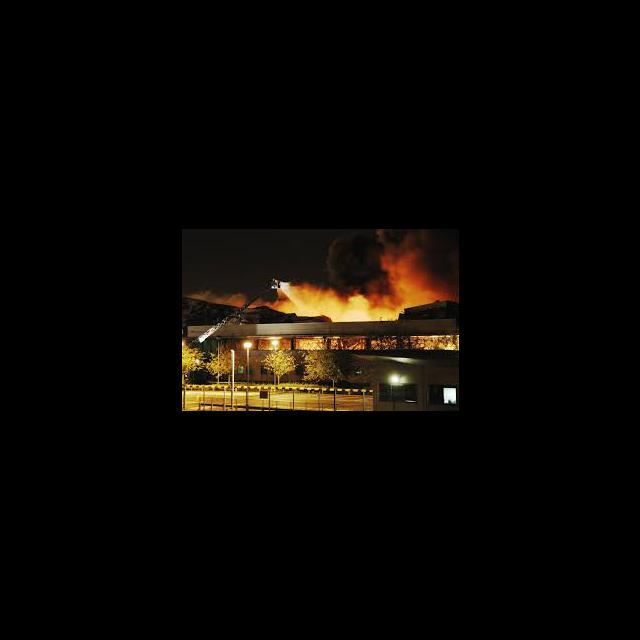Fire: (385, 249, 454, 308), (278, 290, 397, 322), (281, 334, 458, 350)
Smoke: (326, 232, 384, 288), (378, 230, 458, 248)
